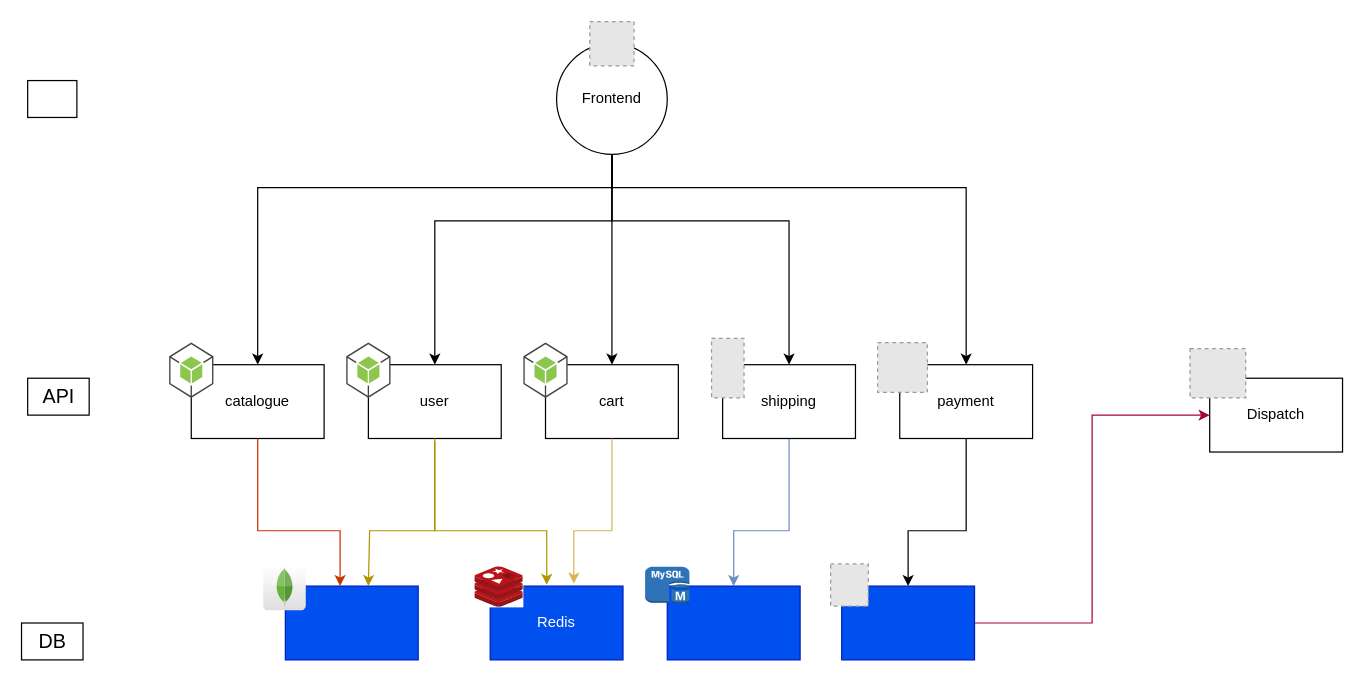
Image size: 1364x681. Some labels were removed from this diagram. Grey dashed boxes stand in for pictures. The centre of each missing label's shape, as x and y in pixels:
Mongo DB: the point at 351,622
MySql: the point at 733,622
RabbitMQ: the point at 907,622
UI: the point at 51,98
